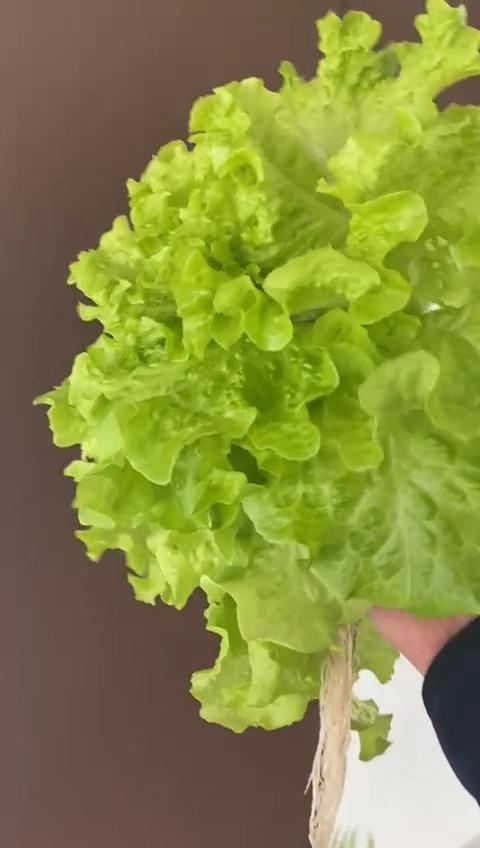Healthy: (42, 0, 480, 761)
